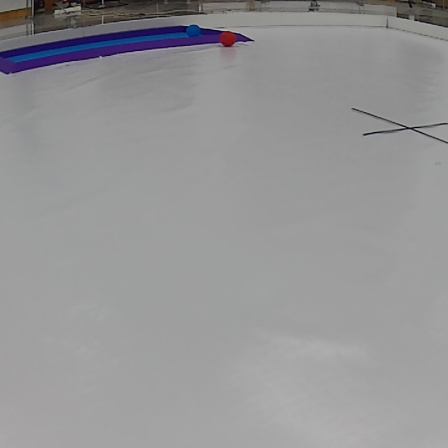blue: (185, 23, 201, 37)
blue_aim: (2, 28, 258, 75)
red: (220, 31, 237, 46)
